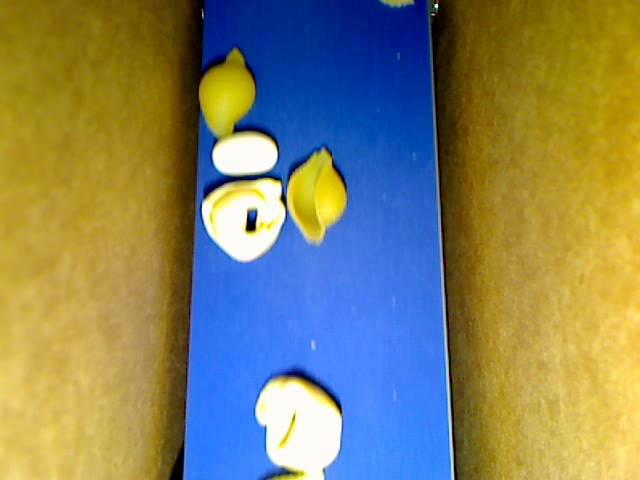shell: (286, 144, 345, 246), (197, 46, 255, 139)
tortellini: (254, 375, 343, 472), (202, 179, 286, 263)
